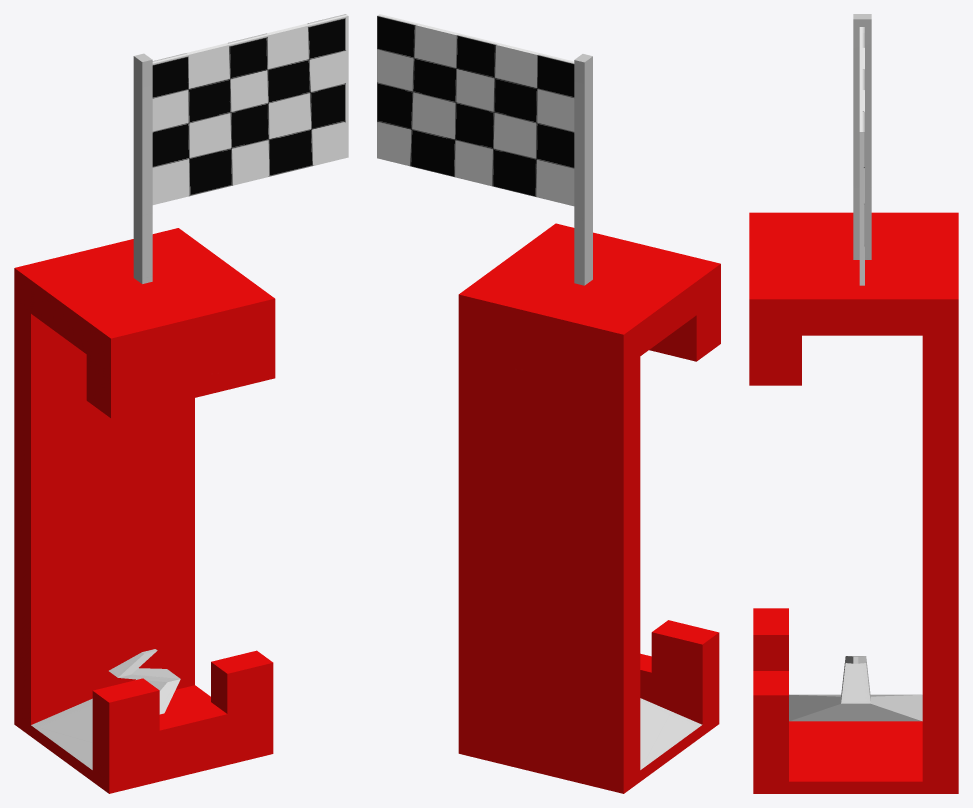
The model's file is Goal.fbx.
3 views of the same model, side by side, from view 1: azimuth 30°, elevation 25°; view 2: azimuth 150°, elevation 25°; view 3: azimuth 270°, elevation 25° (orthographic). The views are drawn at different scales.
Parts seen in each view (by area): view 1: Goal; view 2: Goal; view 3: Goal.
Boxes of the visible parts, x1,y1,x2,y2 form: Goal: [14, 14, 348, 793]; Goal: [377, 14, 720, 793]; Goal: [749, 14, 958, 793].
Size of the model in its own units: 1.76 by 3.95 by 1.02.
